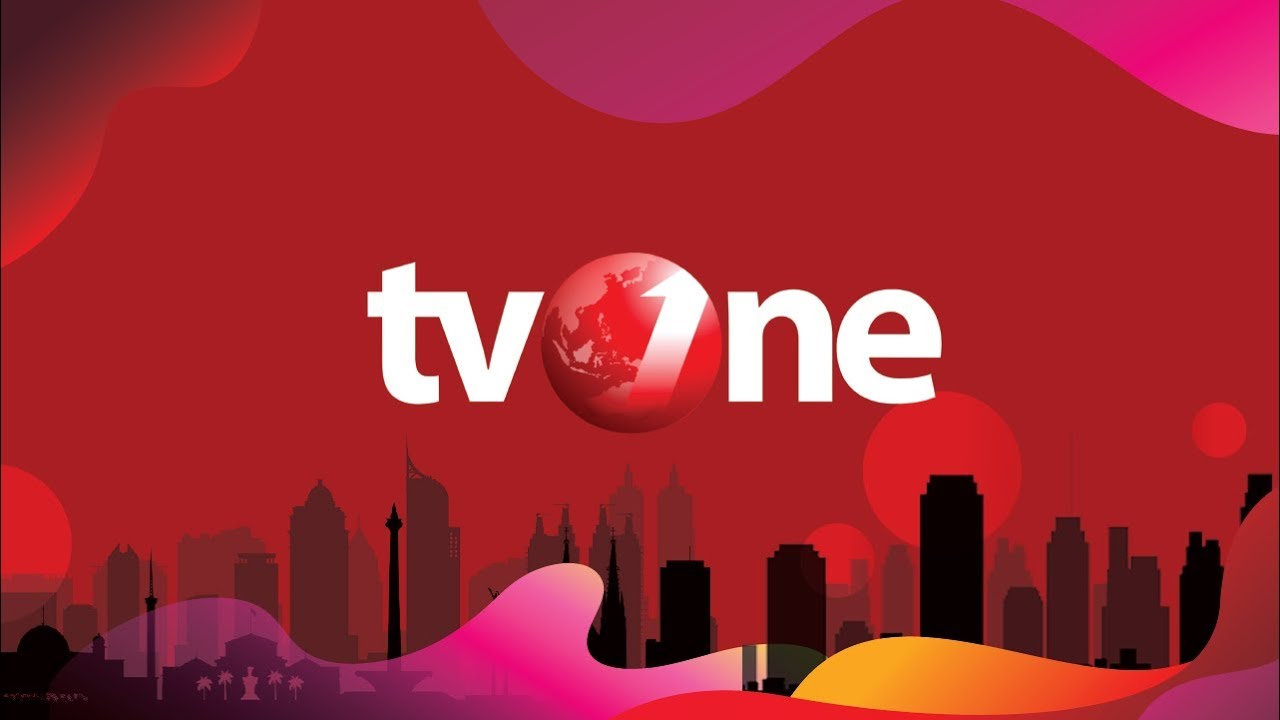tv: (2, 2, 1279, 720)
